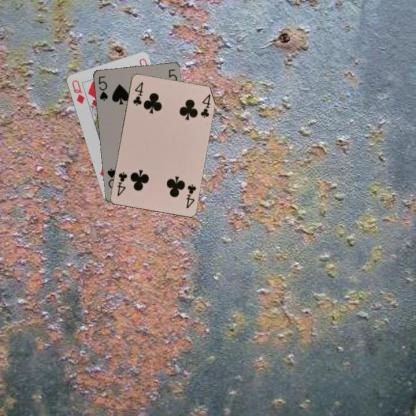4c: (130, 79, 144, 107), (183, 182, 197, 209)
5s: (96, 73, 109, 102)
Qd: (70, 78, 86, 105)
